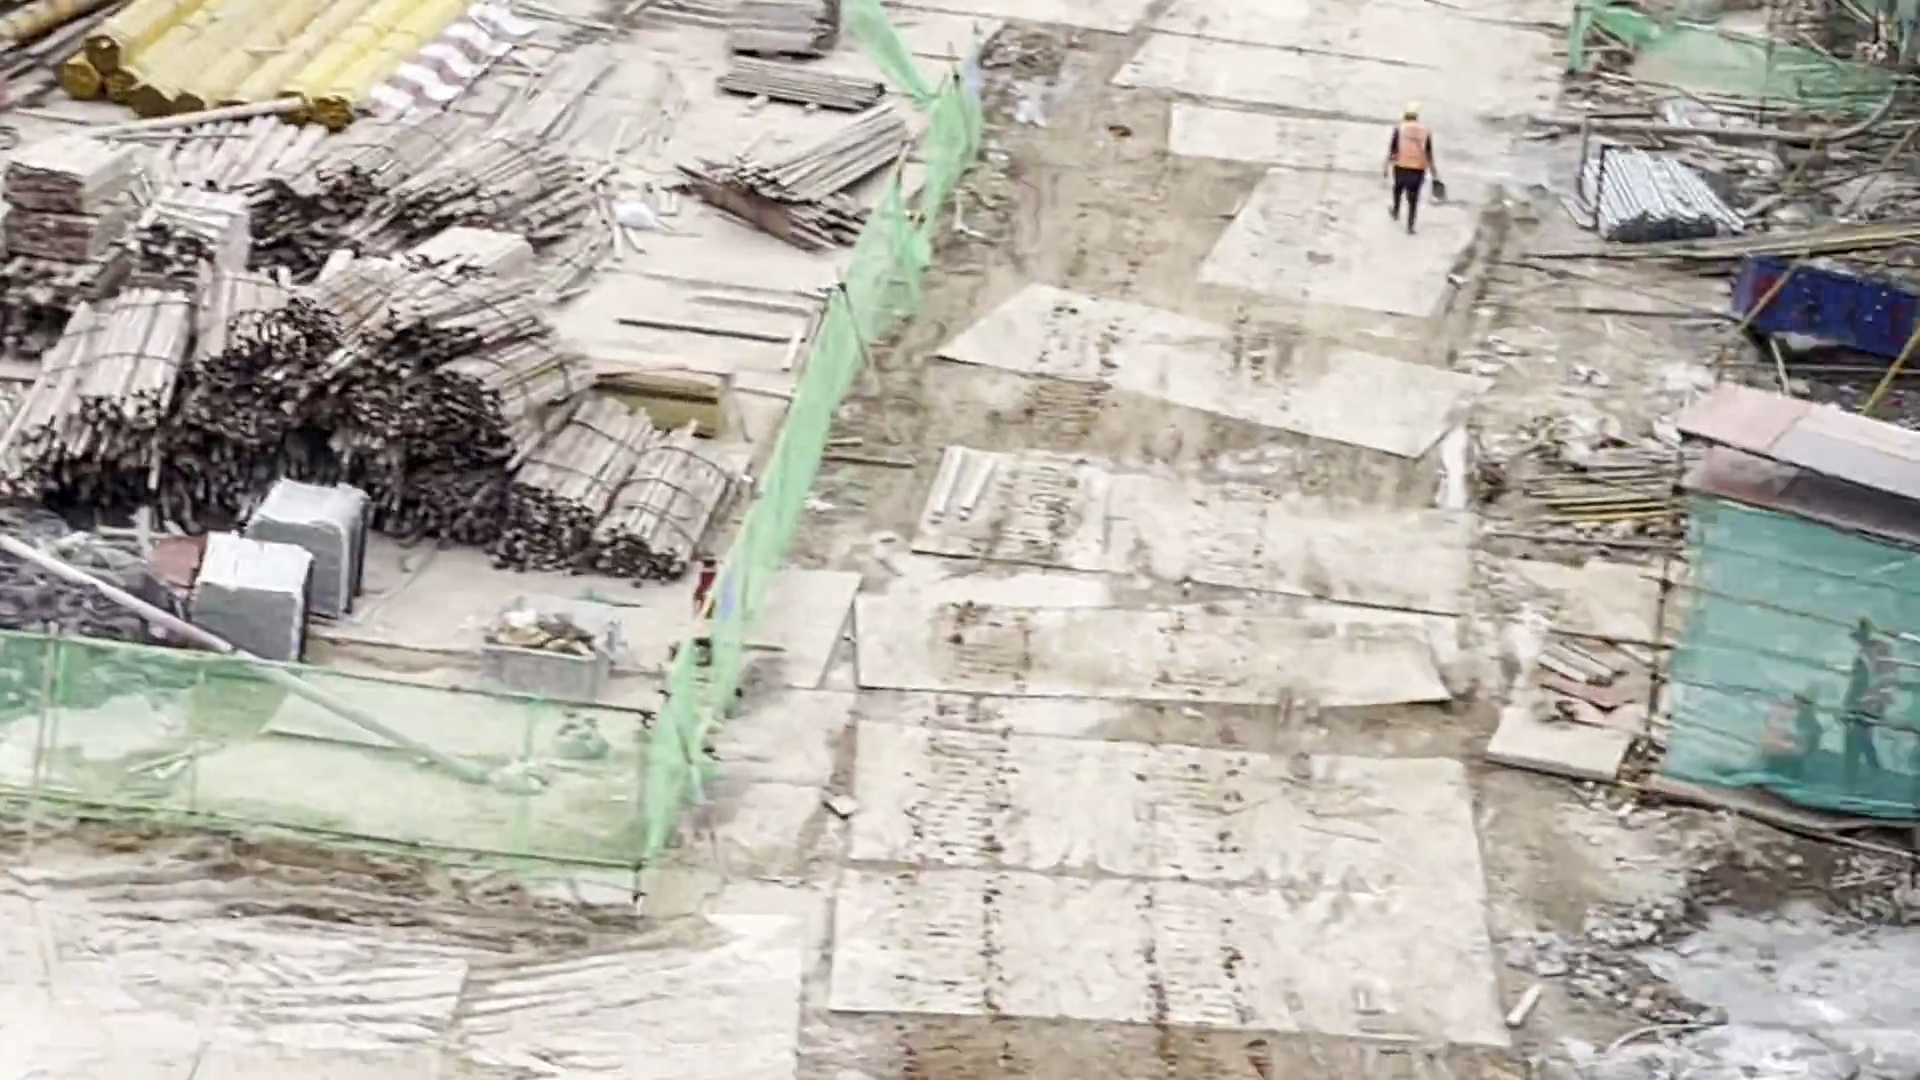hopper: (1726, 247, 1920, 370), (484, 595, 615, 704)
person: (1386, 106, 1442, 231), (1848, 619, 1889, 762), (1767, 681, 1815, 785)
scaffold: (202, 533, 303, 685), (258, 475, 354, 609), (1591, 142, 1727, 231)
vest: (1860, 646, 1893, 715), (1770, 701, 1807, 763), (1395, 125, 1427, 174)
wood: (31, 302, 688, 551), (157, 127, 574, 330), (1, 144, 115, 326), (721, 108, 902, 204), (724, 6, 880, 109)
